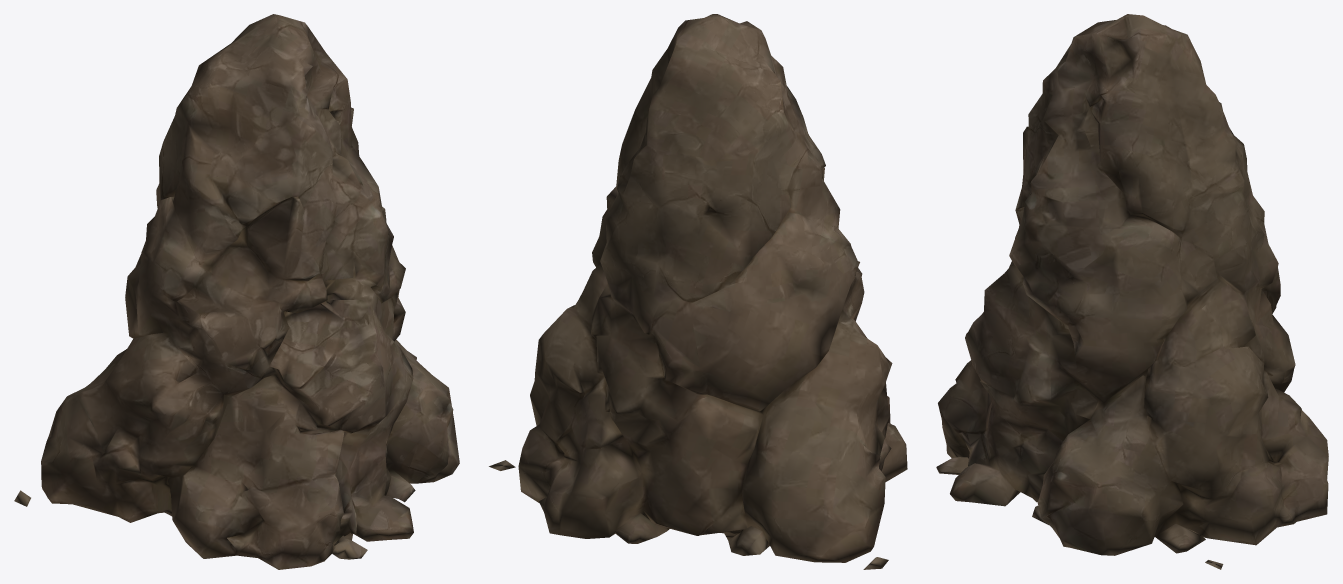
The model's file is rock_B-urLli9Hu.glb.
3 views of the same model, side by side, from view 1: azimuth 30°, elevation 25°; view 2: azimuth 150°, elevation 25°; view 3: azimuth 270°, elevation 25° (orthographic).
Visible parts, largest first — view 1: rock_B; view 2: rock_B; view 3: rock_B.
Part boxes in pixels (x1=…): rock_B: x1=14, y1=14, x2=459, y2=569; rock_B: x1=489, y1=14, x2=907, y2=569; rock_B: x1=936, y1=14, x2=1328, y2=569.
Bounding box in the file's own units: 1.17 × 1.3 × 0.9888.
Materials: 1 (1 with a texture image).
